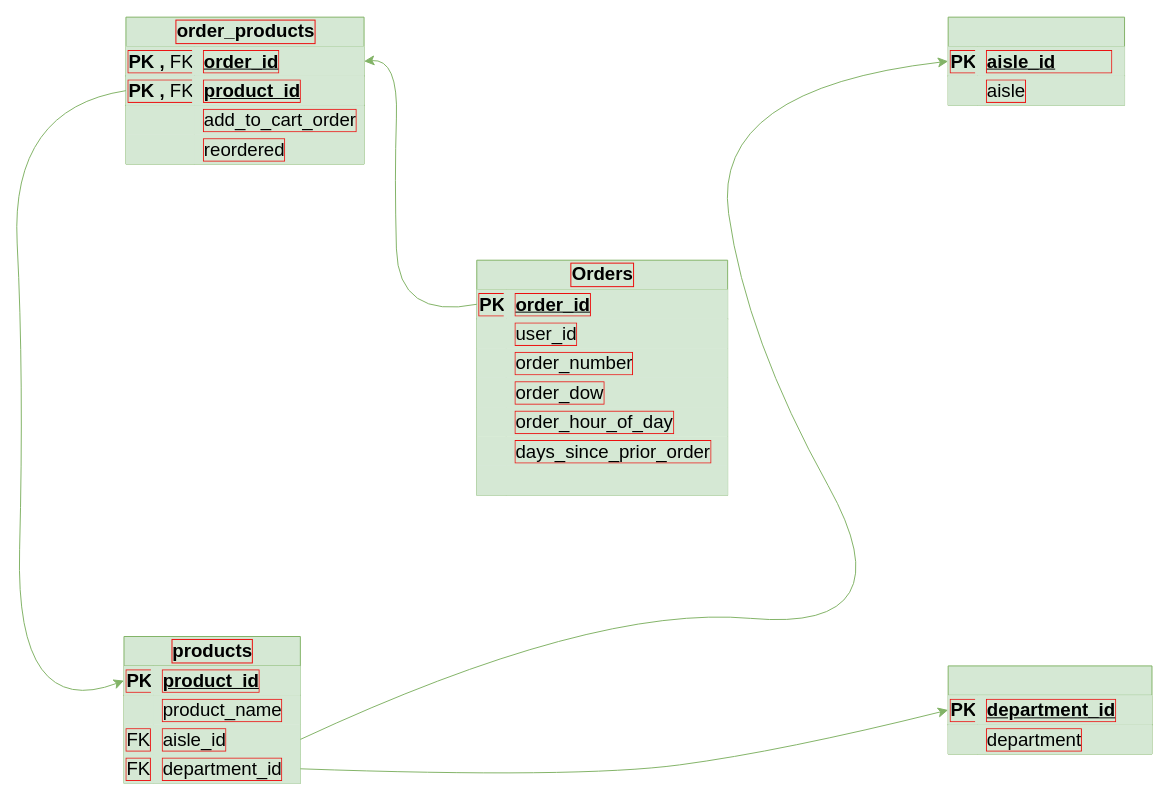
The diagram is 1170 pixels wide and 801 high, and some of its shapes have lost their labels. The shapes that lost their labels are listed below. From the top down, each one's box as (x1, y1, x2, y2) in pixels, then its label:
(947, 16, 1125, 105): aisles
(947, 665, 1152, 754): departments
